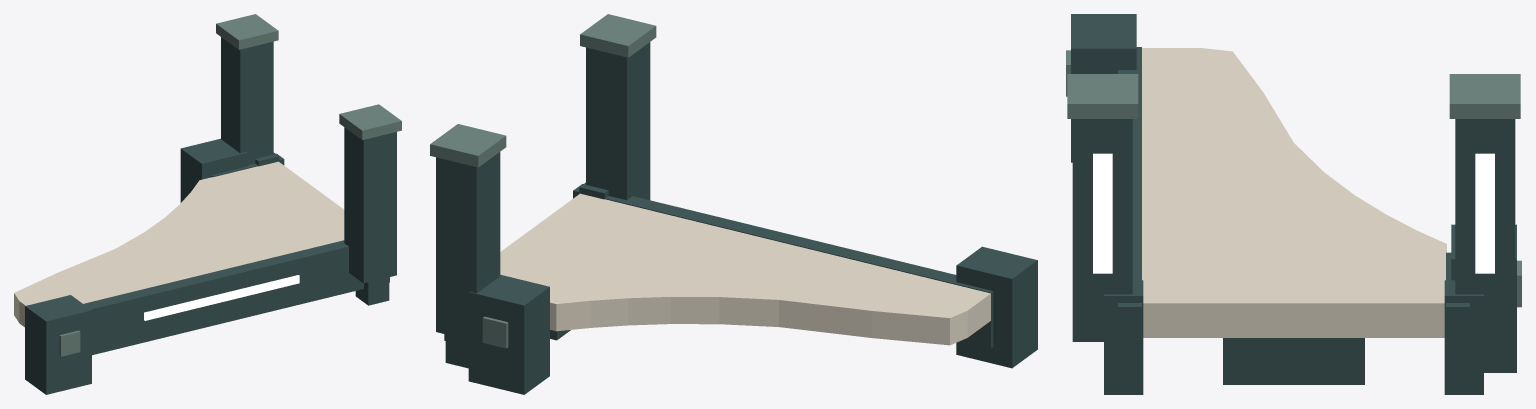
Rendered from Pier_Angled_70_Switch_lab.glb.
3 views of the same model, side by side, from view 1: azimuth 30°, elevation 25°; view 2: azimuth 150°, elevation 25°; view 3: azimuth 270°, elevation 25° (orthographic). The views are drawn at different scales.
Visible parts, largest first — view 1: Pier_Angled_70_Switch; view 2: Pier_Angled_70_Switch; view 3: Pier_Angled_70_Switch.
Part boxes in pixels (<box>): Pier_Angled_70_Switch: <box>14,14,401,394</box>; Pier_Angled_70_Switch: <box>430,14,1037,394</box>; Pier_Angled_70_Switch: <box>1066,14,1521,394</box>.
Bounding box in the file's own units: 5.88 × 2.95 × 4.17.
